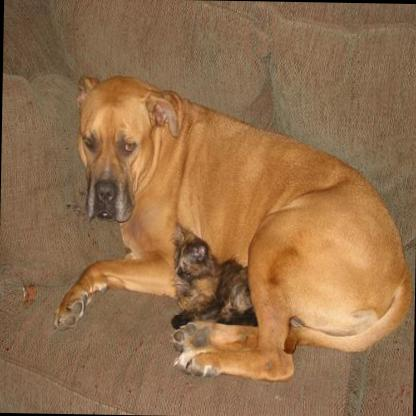bull_mastiff: (48, 73, 416, 383)
